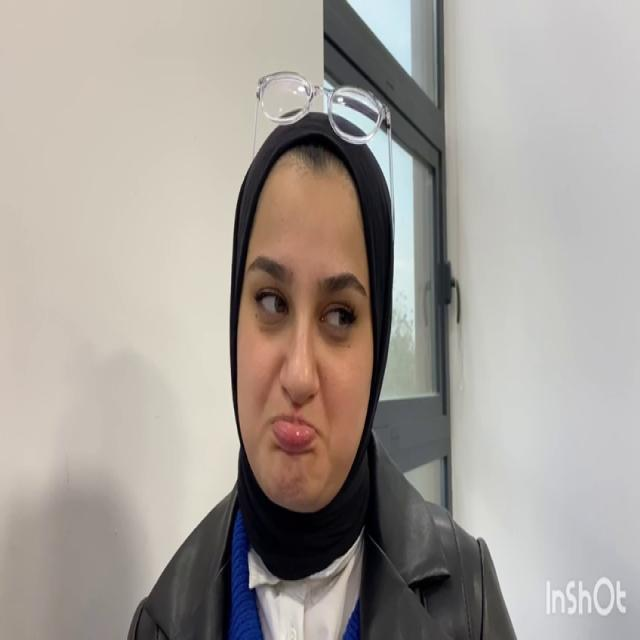sad: (233, 159, 375, 520)
